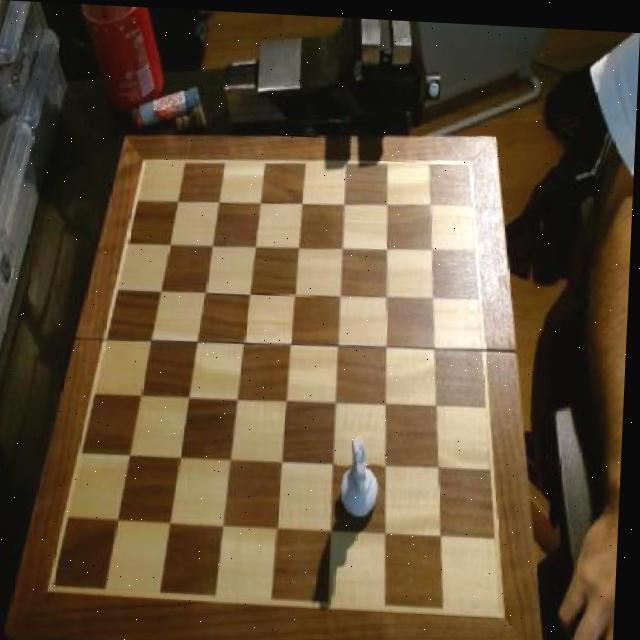white-king: (341, 429, 389, 519)
